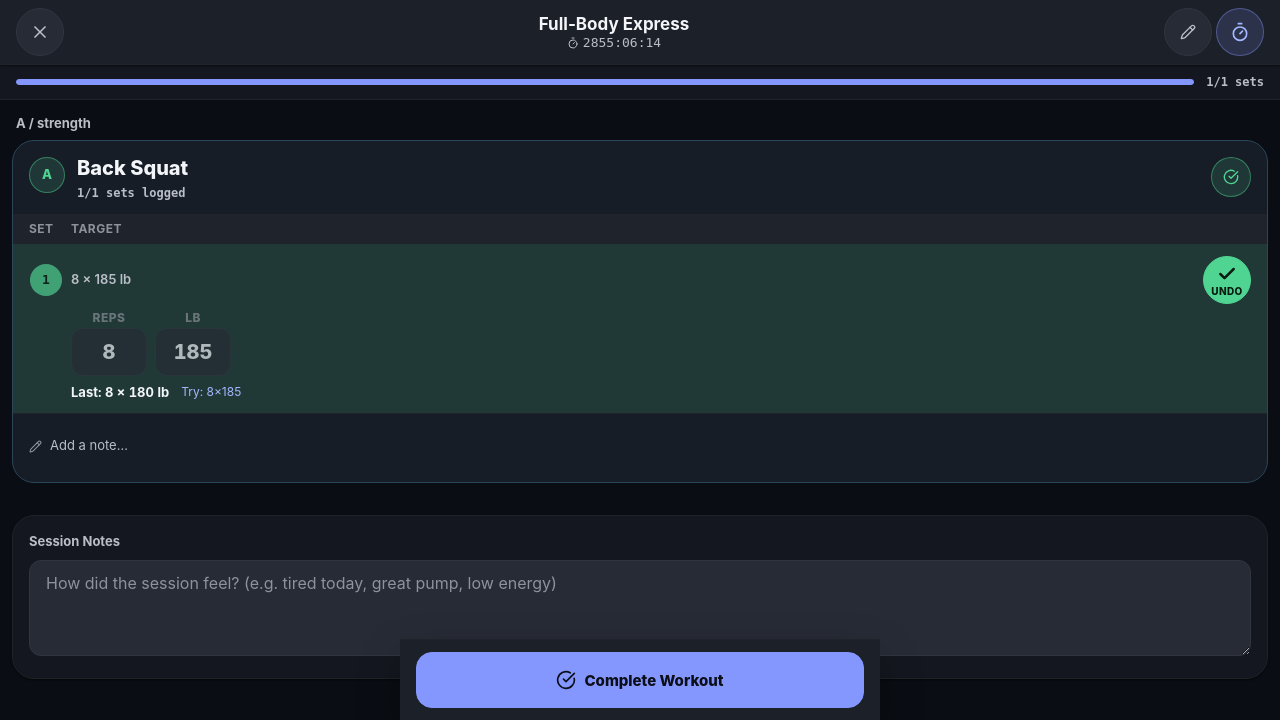
ActiveWorkoutView — completion summary › reports a PR against earlier Sessions without comparing the Session to itself
Click the button "Complete Workout" at (640, 680), box [416, 652, 864, 708]
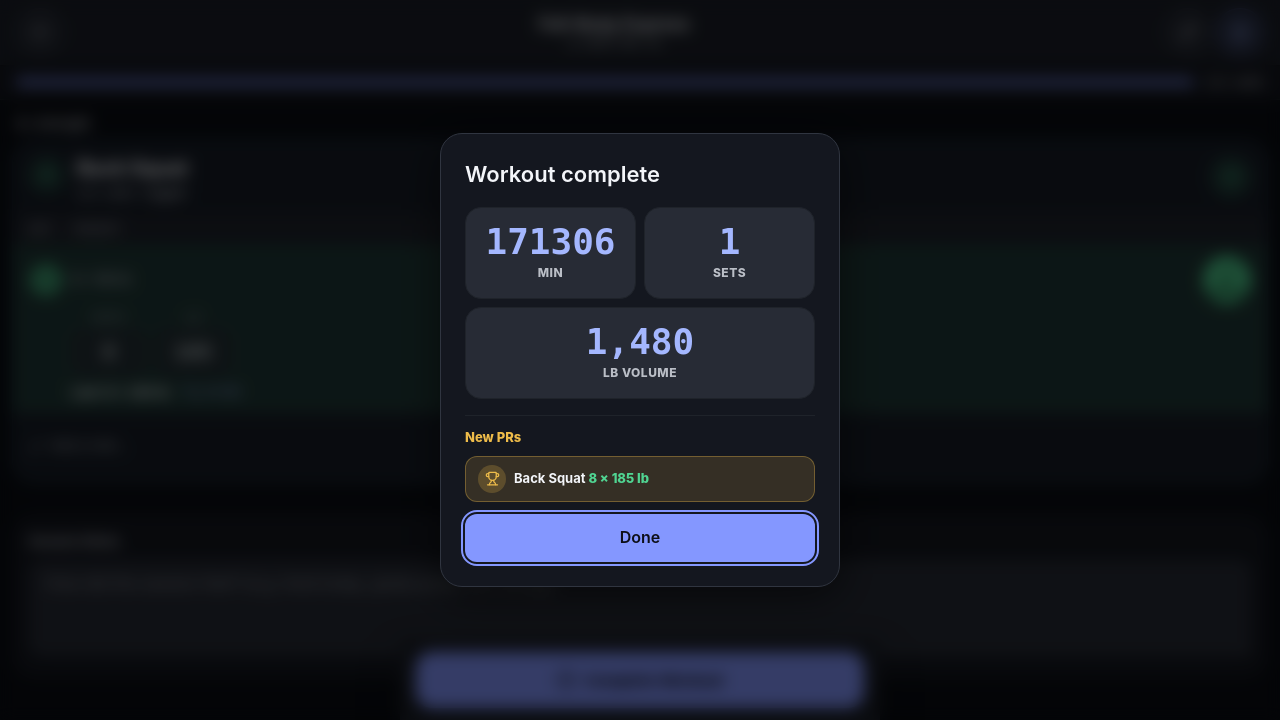
Result: the text "New PRs" is shown at [465, 429, 521, 445]
Result: the text "Back Squat" is shown at [514, 470, 586, 486]
Result: the text "8 × 185 lb" is shown at [586, 470, 649, 486]
